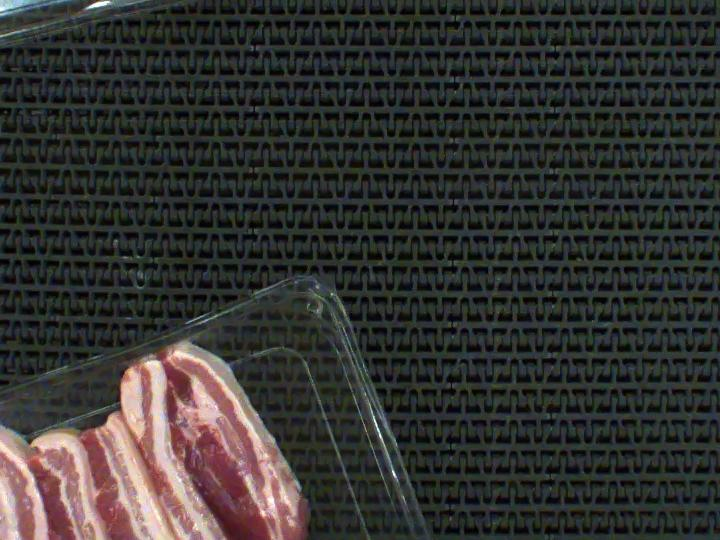loose-meat: (0, 401, 45, 482)
